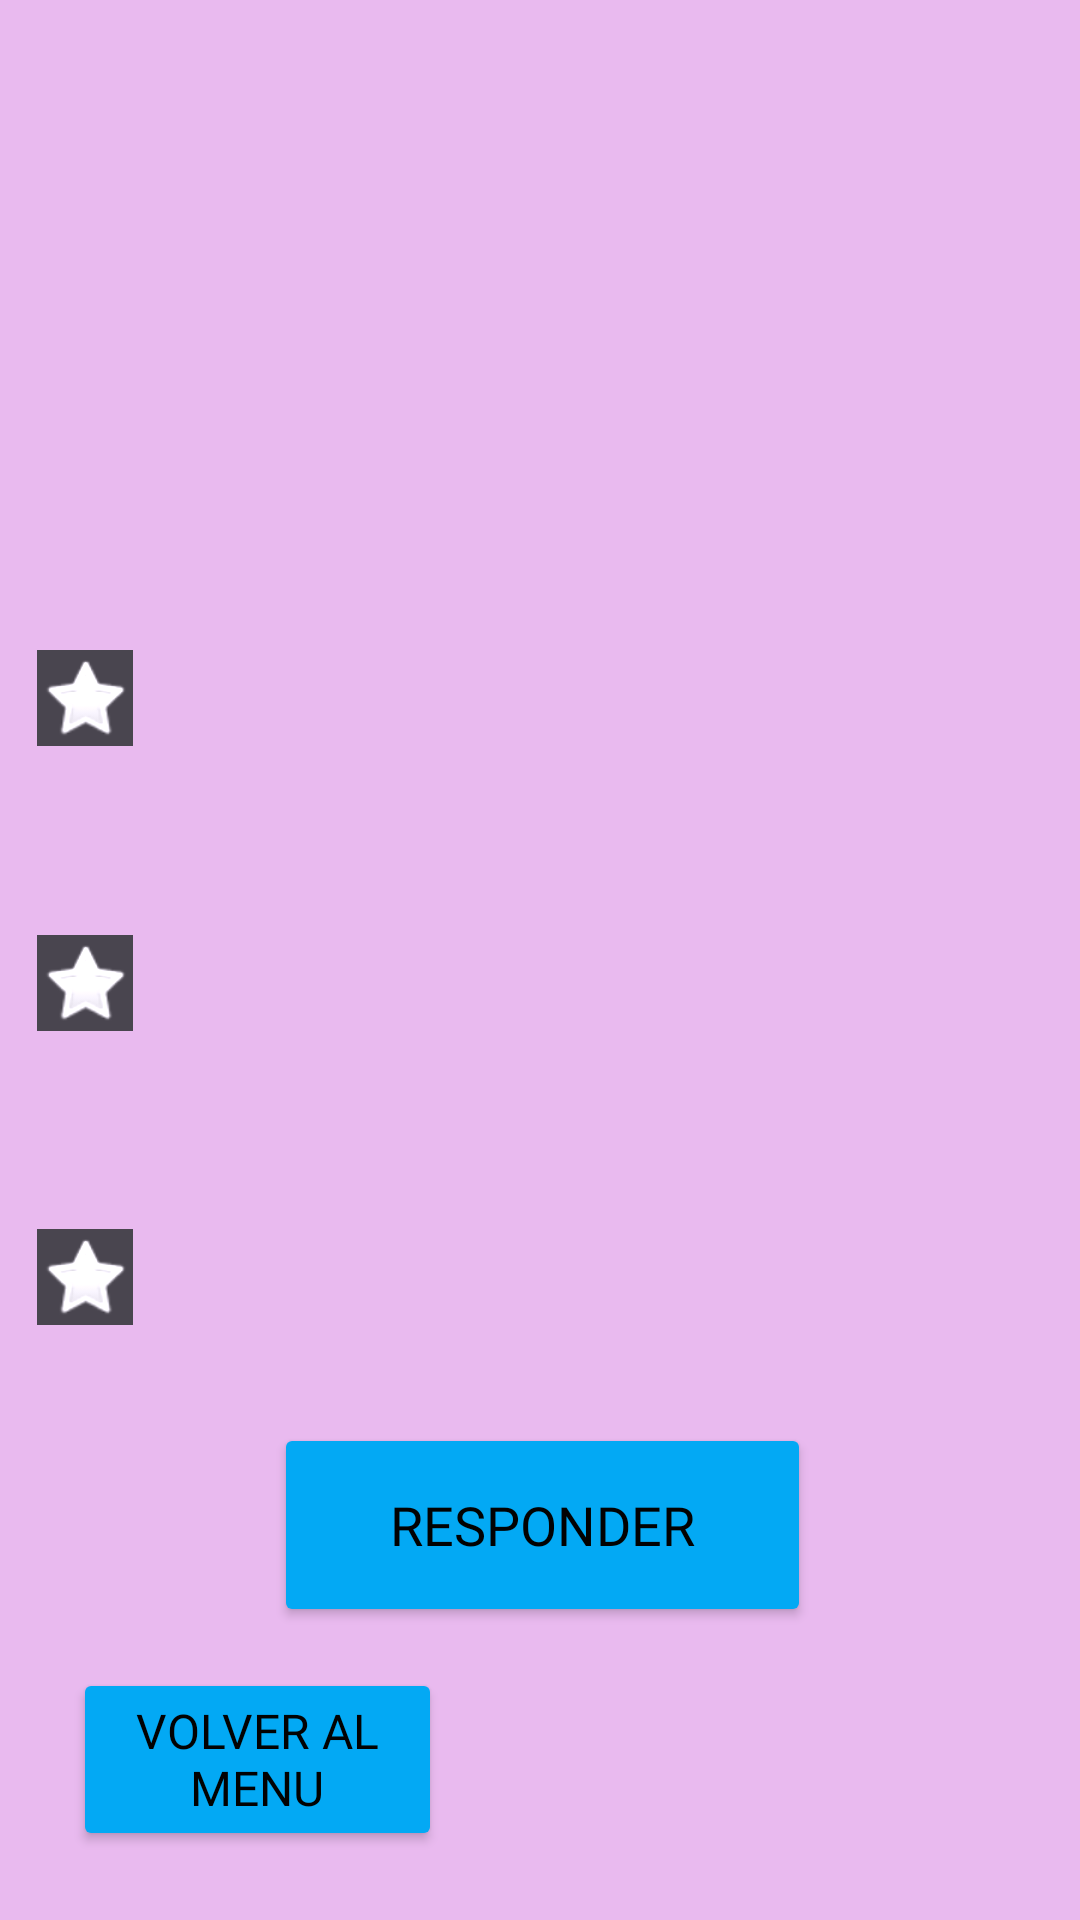

Screen size 1080px x 1920px. Icon name, then its box in pixels as (x1, y1, x2, y2):
star: (37, 650, 133, 746), (37, 935, 133, 1031), (37, 1229, 133, 1325)
